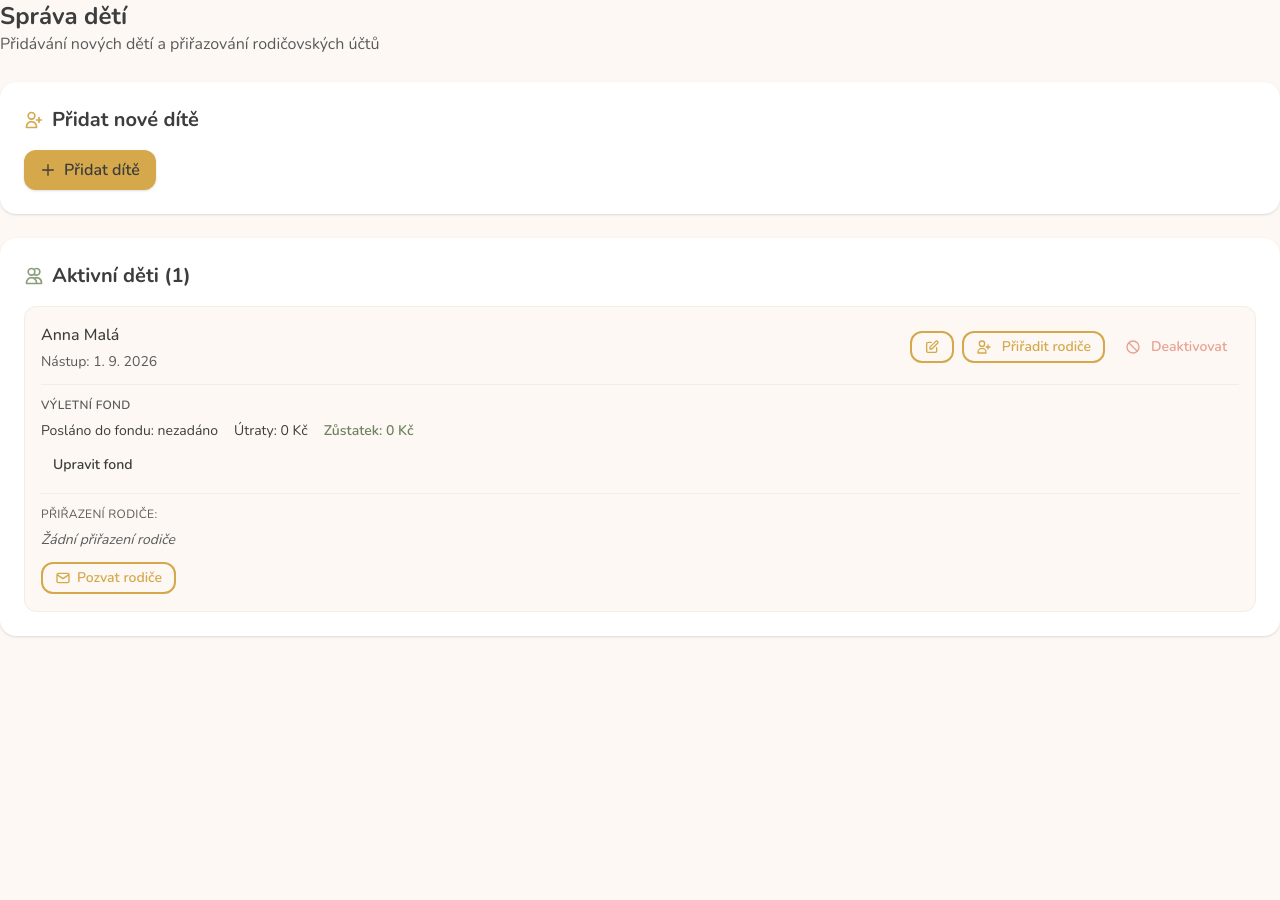
ChildrenManagementPage › keeps the assignment and retries failed delivery without duplicating the parent
Click the button with aria-label "Pozvat rodiče Anna Malá": (108, 578) [41,562,176,594]
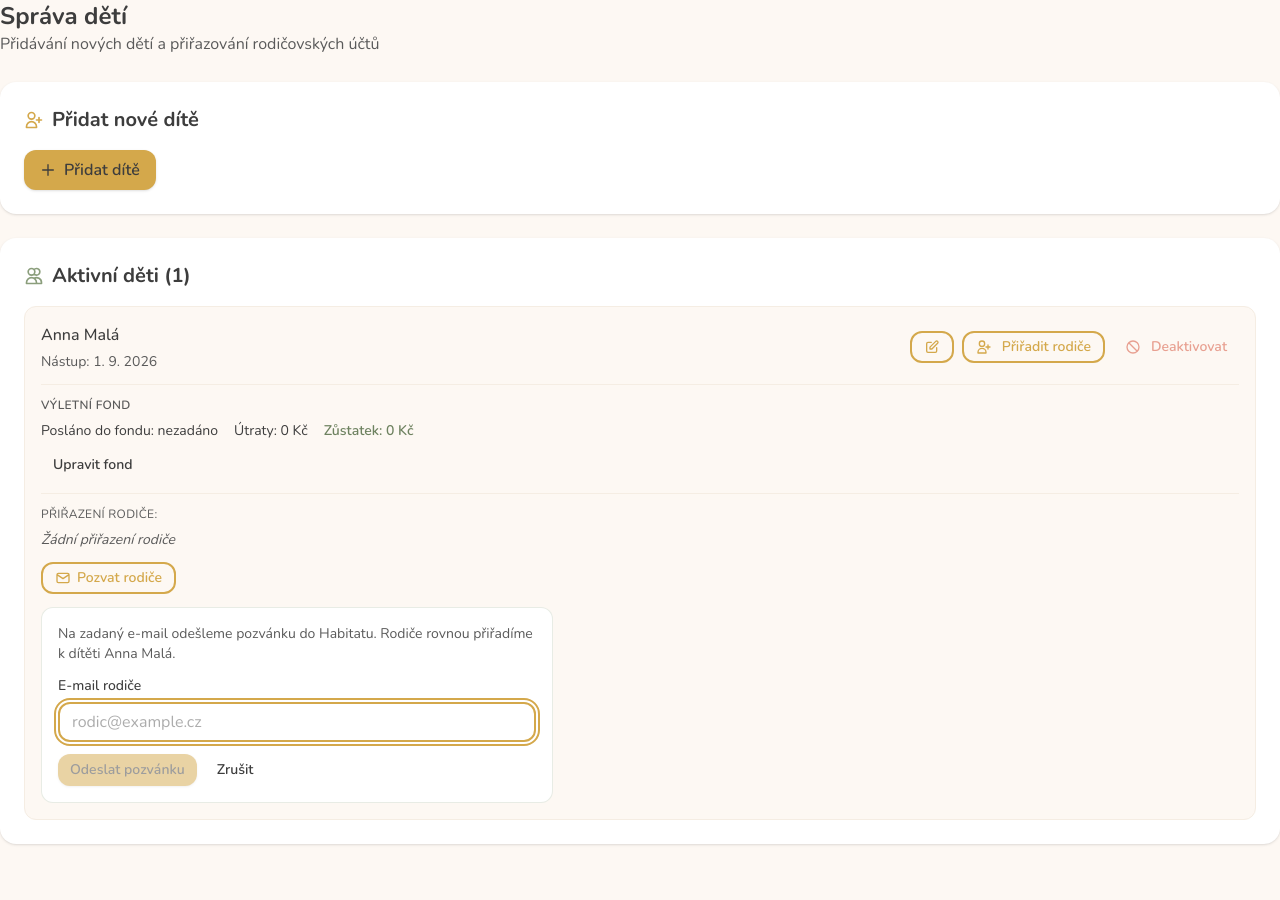
In the field labelled "E-mail rodiče": (297, 722) [58,702,536,742], type "parent@example.com"
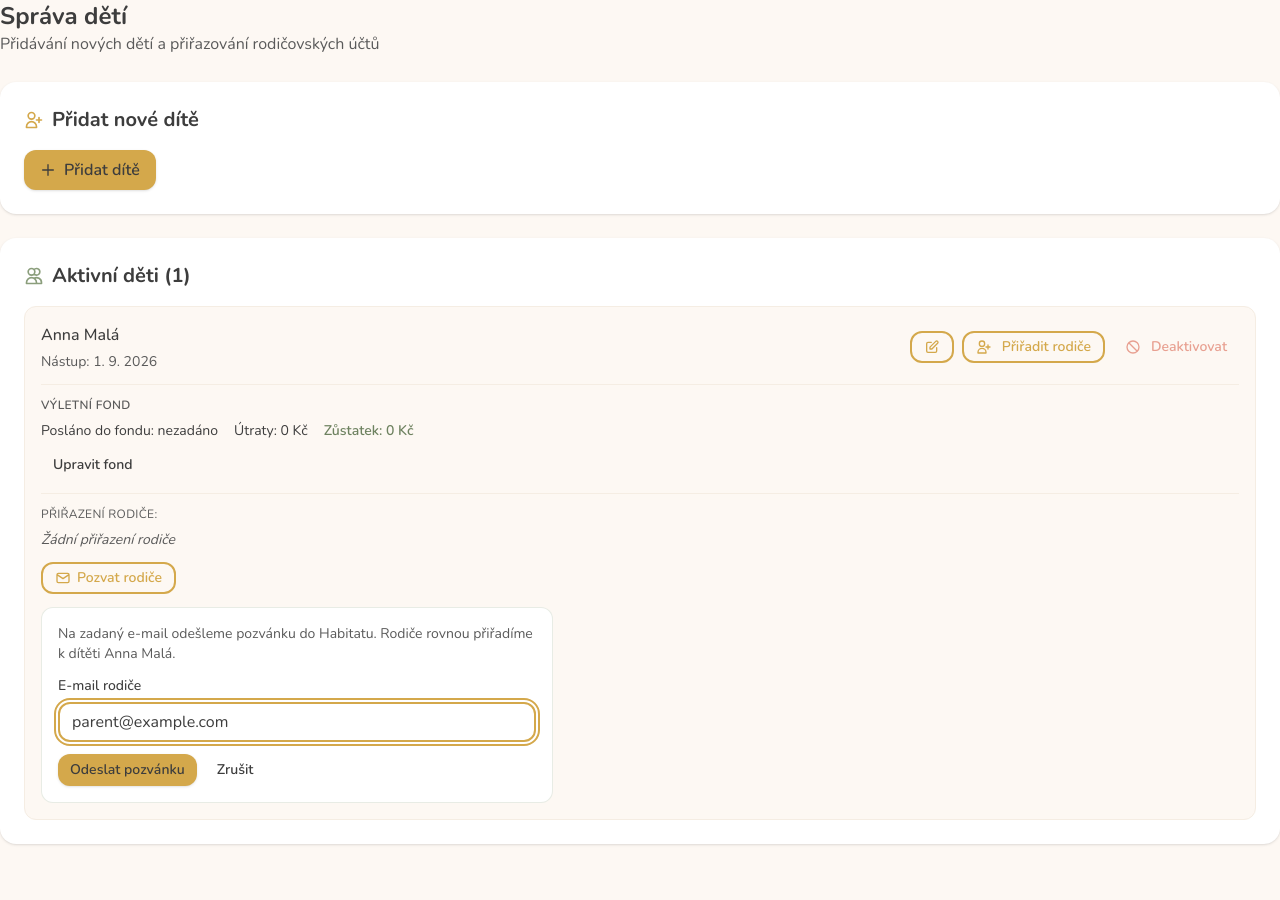
Click the button "Odeslat pozvánku": (127, 770) [58,754,197,786]
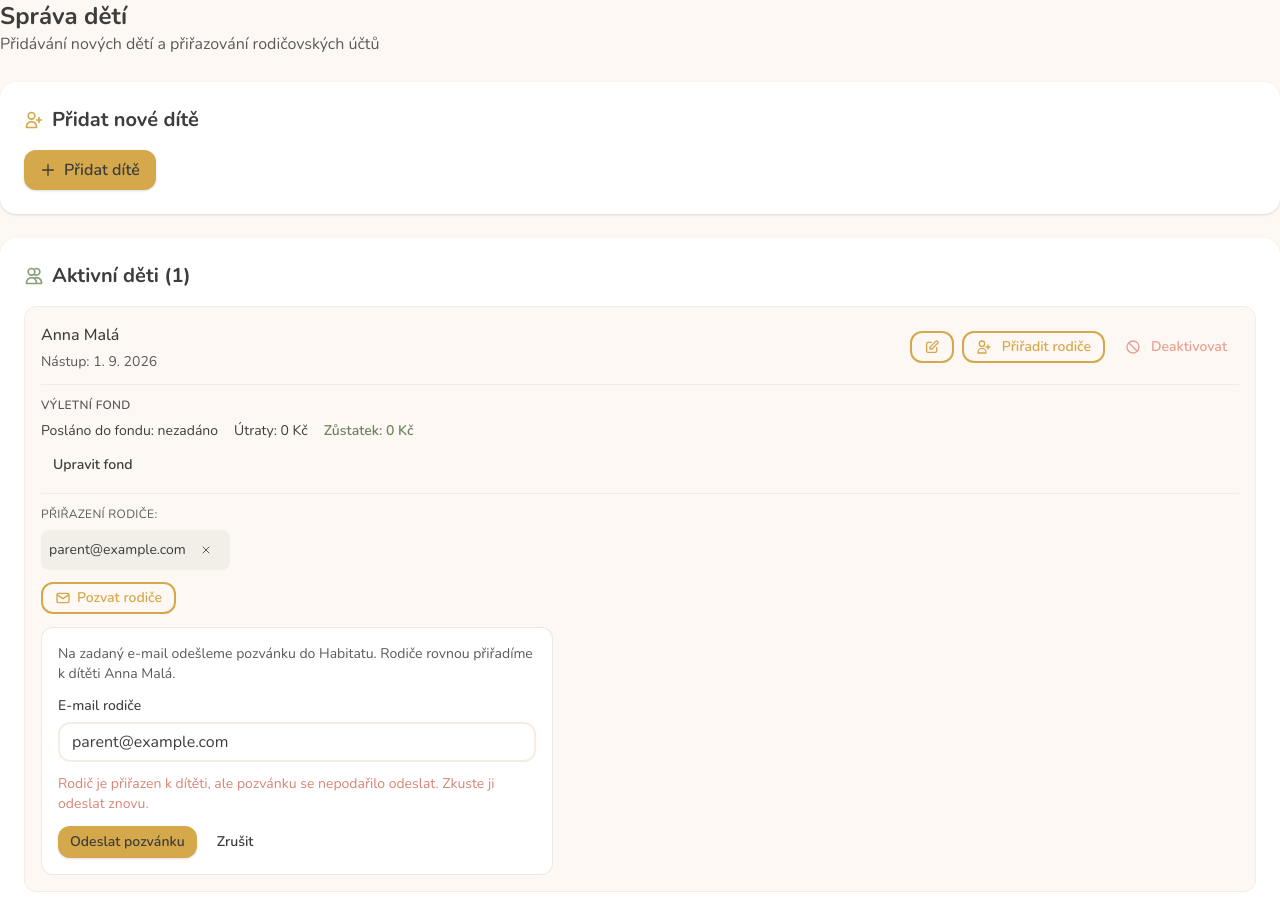
expect the message shows "Rodič je přiřazen": met, box [58,774,494,813]
expect the text "parent@example.com" is shown: met, box [49,540,186,560]
Click the button "Odeslat pozvánku": (127, 842) [58,826,197,858]
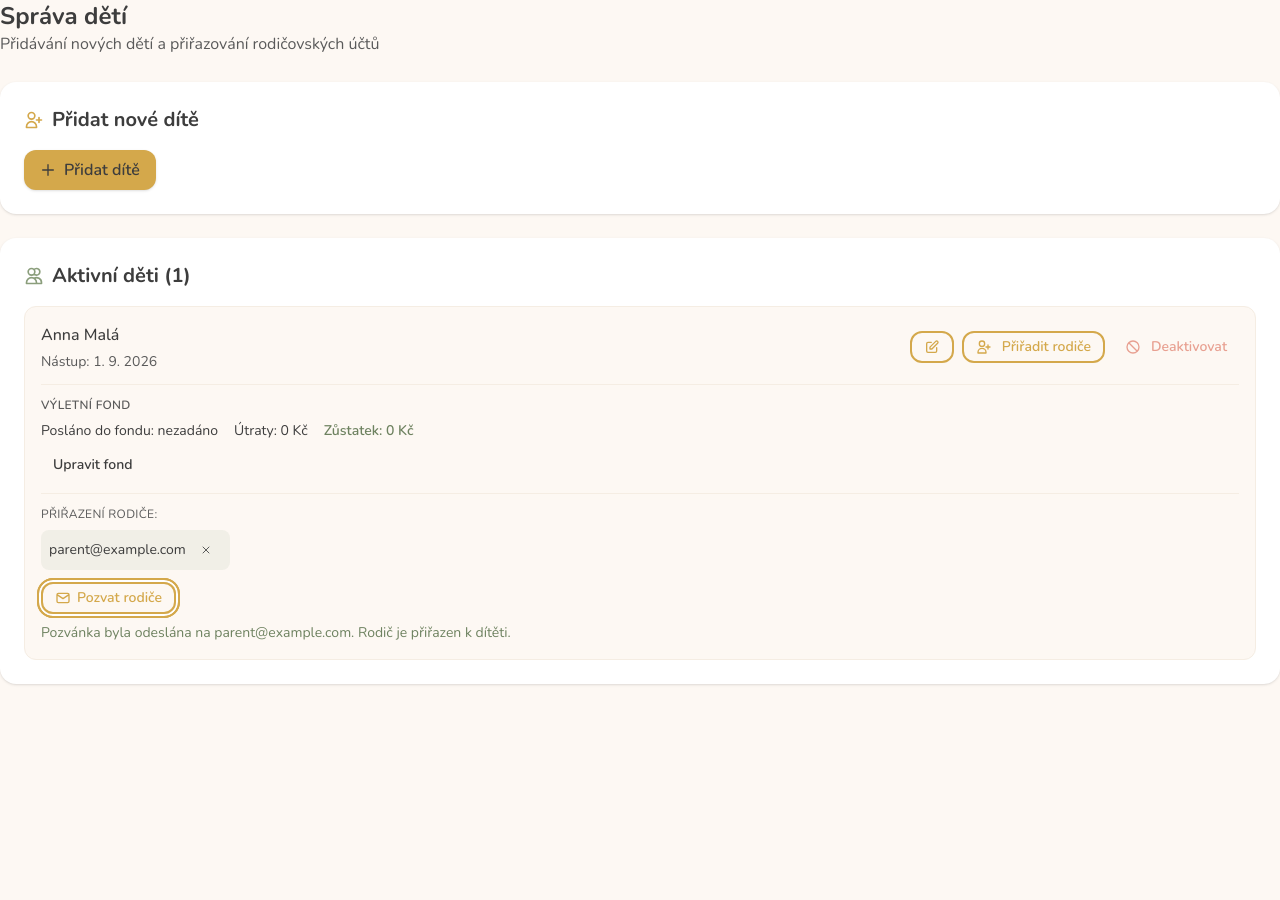
expect the text "parent@example.com" is shown once: met, box [49,540,186,560]
expect the message "Pozvánka byla odeslána na parent@example.com. Rodič je přiřazen k dítěti." is shown: met, box [41,623,511,642]
